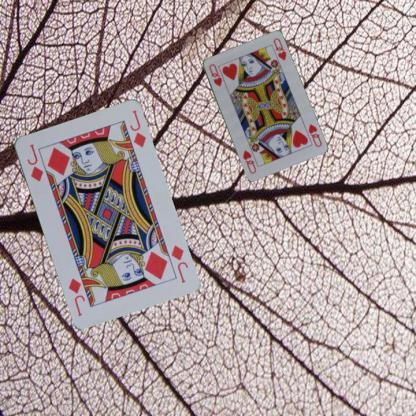Jd: (168, 242, 189, 284), (24, 141, 44, 183)
Qh: (306, 121, 324, 148), (206, 61, 223, 88)
